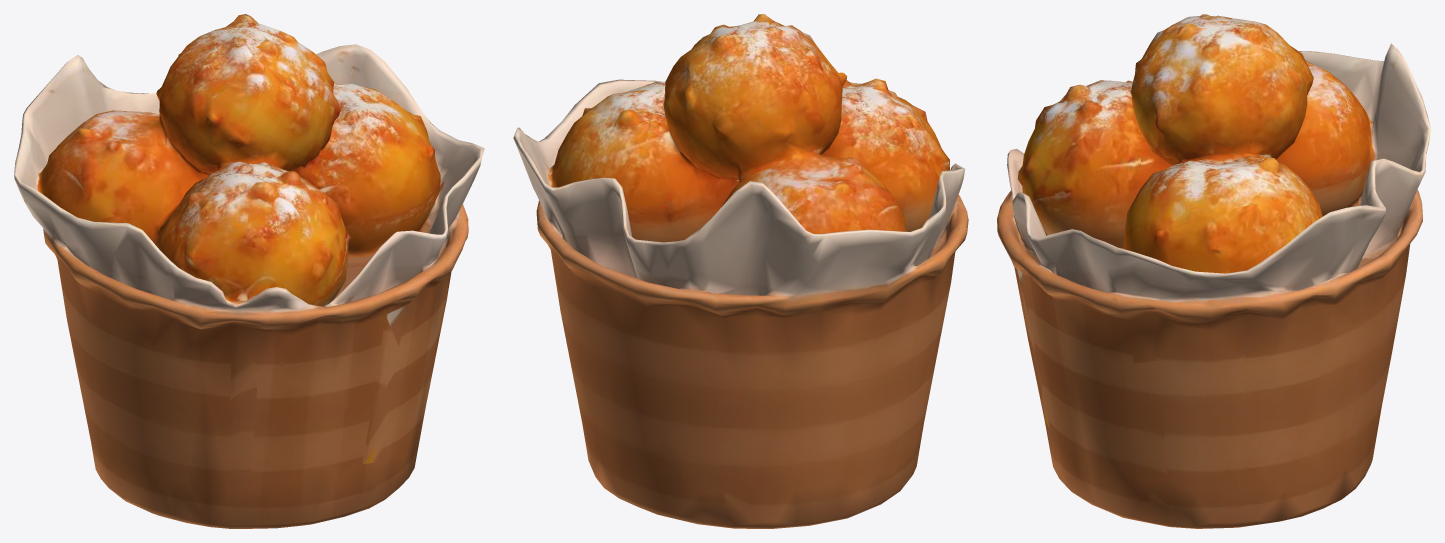
The picture shows the model from 3 angles, left to right: view 1: azimuth 30°, elevation 25°; view 2: azimuth 150°, elevation 25°; view 3: azimuth 270°, elevation 25°; orthographic projection. The views are drawn at different scales.
Visible parts, largest first — view 1: cheese-balls; view 2: cheese-balls; view 3: cheese-balls.
Part boxes in pixels (box(x1,y1,x2,y2)): cheese-balls: box(14, 14, 484, 528); cheese-balls: box(513, 14, 968, 528); cheese-balls: box(997, 14, 1430, 528).
Bounding box in the file's own units: 0.1538 × 0.16 × 0.1427.
1 material, 1 textured.
